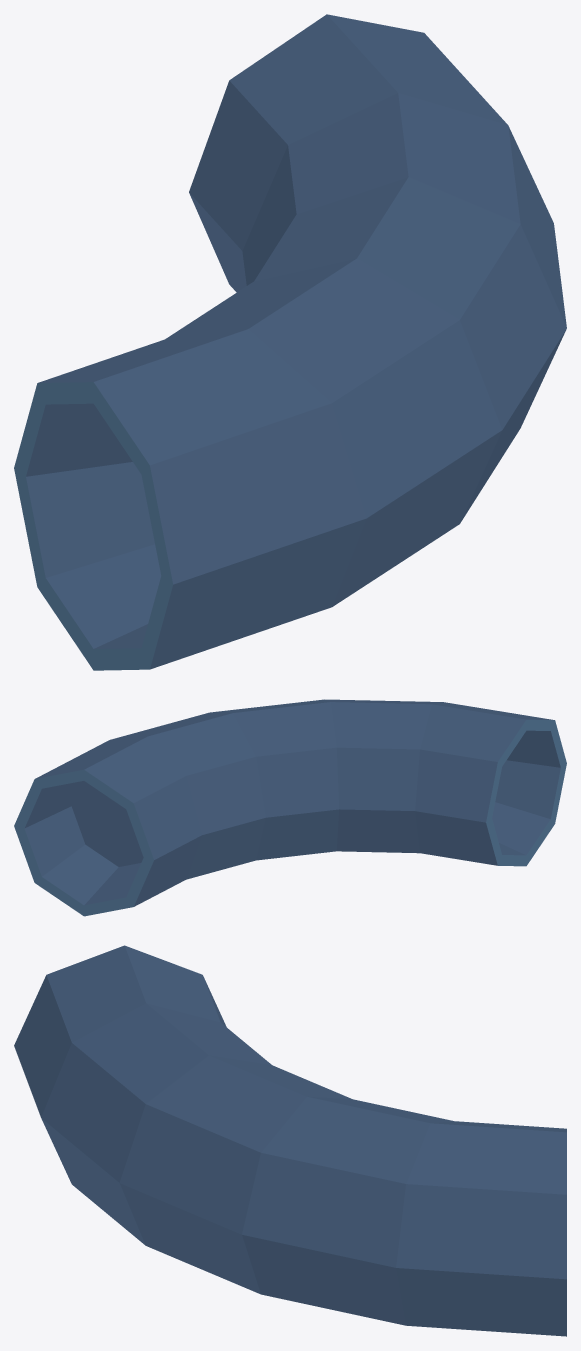
Rendered from pipeBend-a.glb.
3 views of the same model, one above another, from view 1: azimuth 30°, elevation 25°; view 2: azimuth 150°, elevation 25°; view 3: azimuth 270°, elevation 25° (orthographic). The views are drawn at different scales.
Visible parts, largest first — view 1: pipeBend-a; view 2: pipeBend-a; view 3: pipeBend-a.
Boxes of the visible parts, left/top/right/bottom form: pipeBend-a: left=14, top=14, right=566, bottom=670; pipeBend-a: left=14, top=699, right=566, bottom=916; pipeBend-a: left=14, top=945, right=566, bottom=1336.
Size of the model in its own units: 1.25 by 0.5 by 1.25.
1 material, 1 textured.
